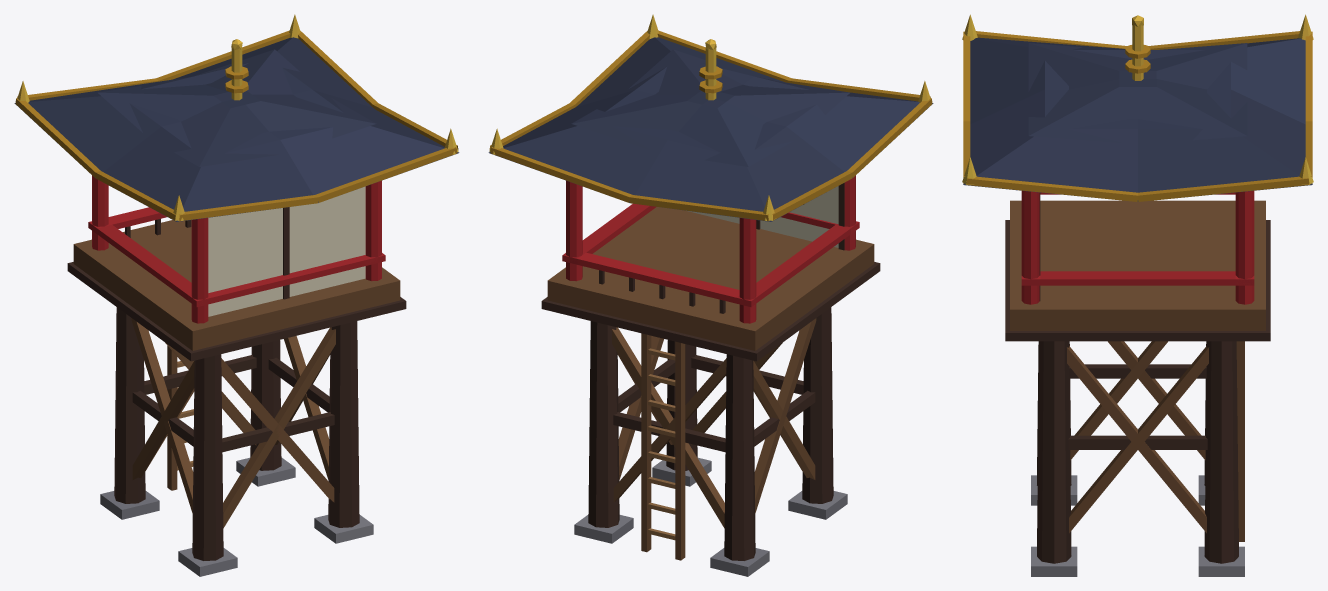
Rendered from Decor_NinjaDojo_Tower.fbx.
3 renders of one model, left to right at view 1: azimuth 30°, elevation 25°; view 2: azimuth 150°, elevation 25°; view 3: azimuth 270°, elevation 25°, orthographic. The views are drawn at different scales.
Parts seen in each view (by area): view 1: Tower_Body, Tower_Roof; view 2: Tower_Body, Tower_Roof; view 3: Tower_Body, Tower_Roof.
Part boxes in pixels (x1,y1,x2,y2): Tower_Body: (67,175,406,576); Tower_Roof: (14,14,459,221); Tower_Body: (541,175,880,576); Tower_Roof: (488,14,933,221); Tower_Body: (1005,190,1270,576); Tower_Roof: (962,14,1313,201).
Bounding box in the file's own units: 15 × 24.3 × 15.
